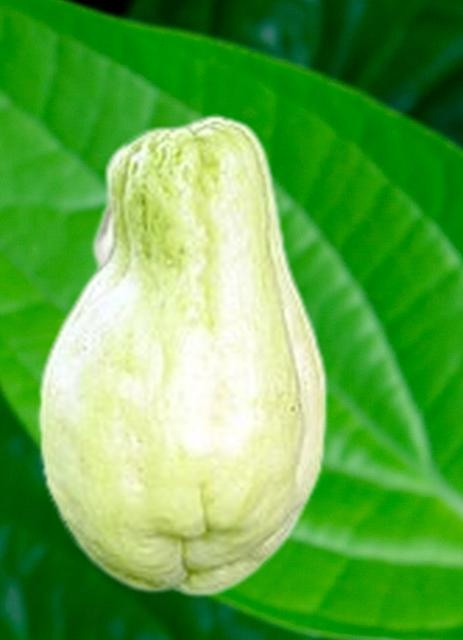sayote: (36, 113, 327, 597)
